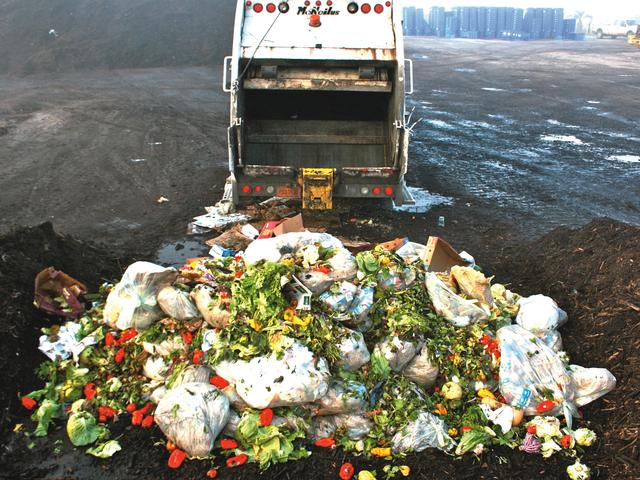garbage: (139, 262, 468, 427)
